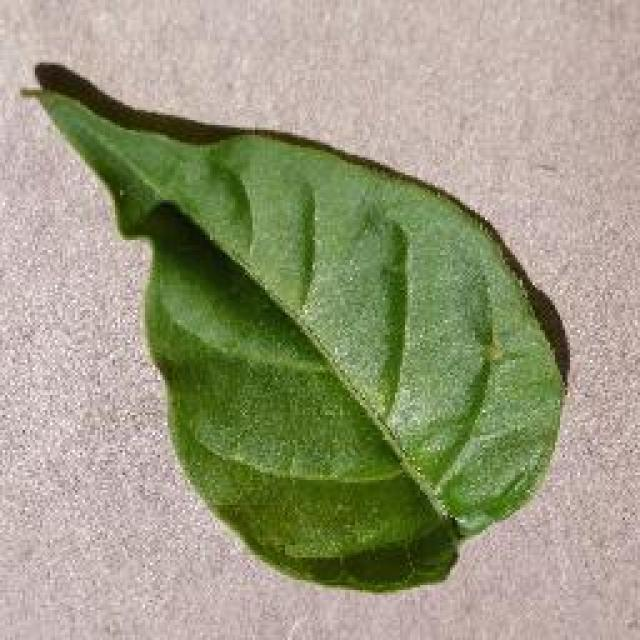Chilli_Healthy: (18, 57, 570, 595)
